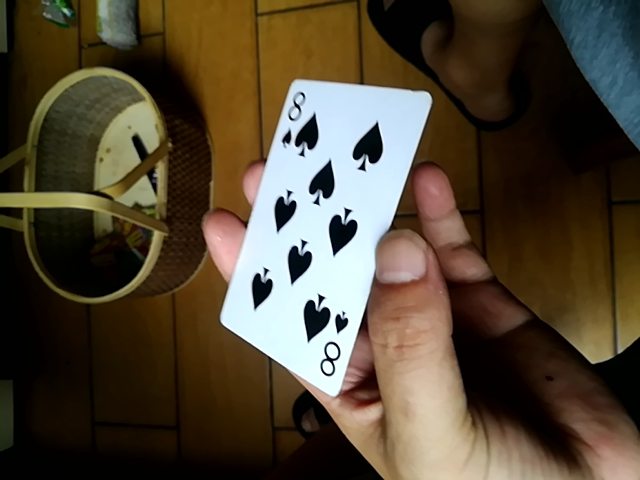ht 8: (217, 79, 421, 404)
